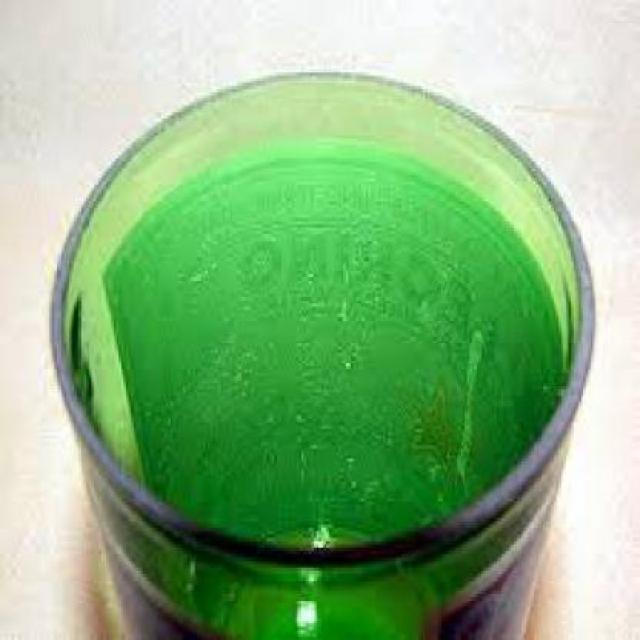kaca: (49, 66, 594, 637)
